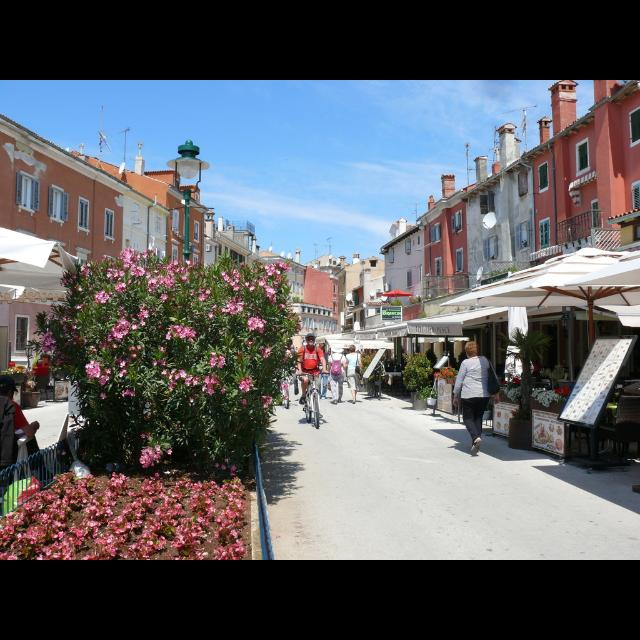Flower: (42, 246, 292, 408), (141, 432, 173, 470), (532, 386, 570, 406), (500, 378, 520, 400), (432, 366, 454, 380), (144, 412, 154, 422), (98, 296, 109, 304), (230, 465, 238, 475), (220, 463, 226, 471), (213, 462, 219, 468), (225, 458, 231, 462)
